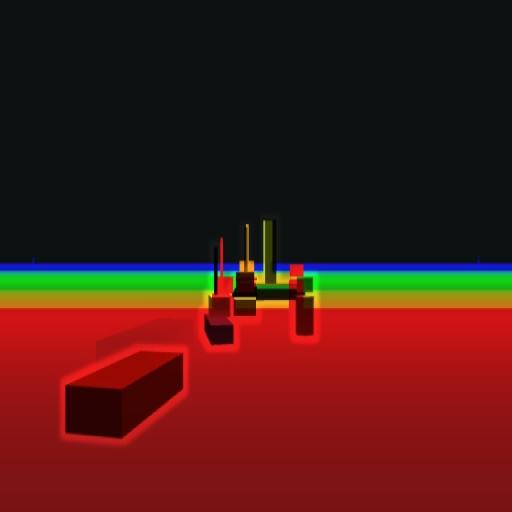buoy: (295, 278, 315, 338)
debris_container: (66, 348, 184, 439)
fishing_boat: (204, 248, 235, 349)
platform: (250, 220, 292, 300)
vessel: (235, 230, 256, 316)
